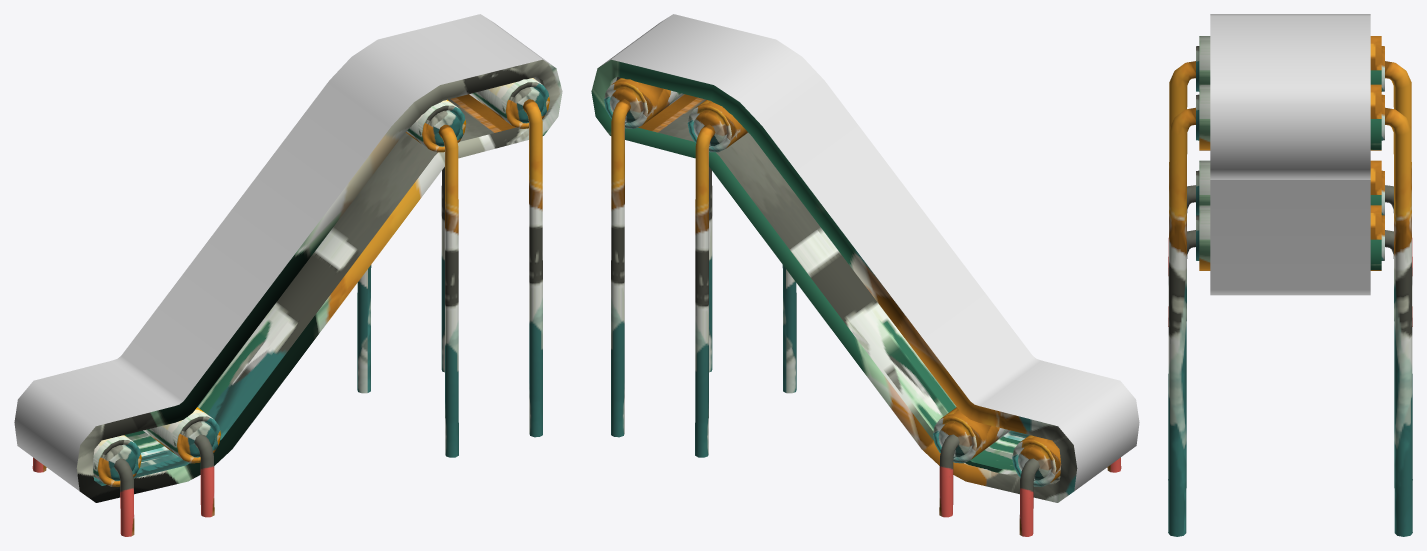
File: MountedSuperTallConveyorBelt.fbx
3 views of the same model, side by side, from view 1: azimuth 30°, elevation 25°; view 2: azimuth 150°, elevation 25°; view 3: azimuth 270°, elevation 25° (orthographic). The views are drawn at different scales.
Visible parts, largest first — view 1: MountedSuperTallConveyorBelt; view 2: MountedSuperTallConveyorBelt; view 3: MountedSuperTallConveyorBelt.
Boxes of the visible parts, left/top/right/bottom form: MountedSuperTallConveyorBelt: left=14, top=14, right=562, bottom=536; MountedSuperTallConveyorBelt: left=591, top=14, right=1139, bottom=536; MountedSuperTallConveyorBelt: left=1168, top=14, right=1412, bottom=536.
Size of the model in its own units: 6.34 by 4.5 by 2.15.
